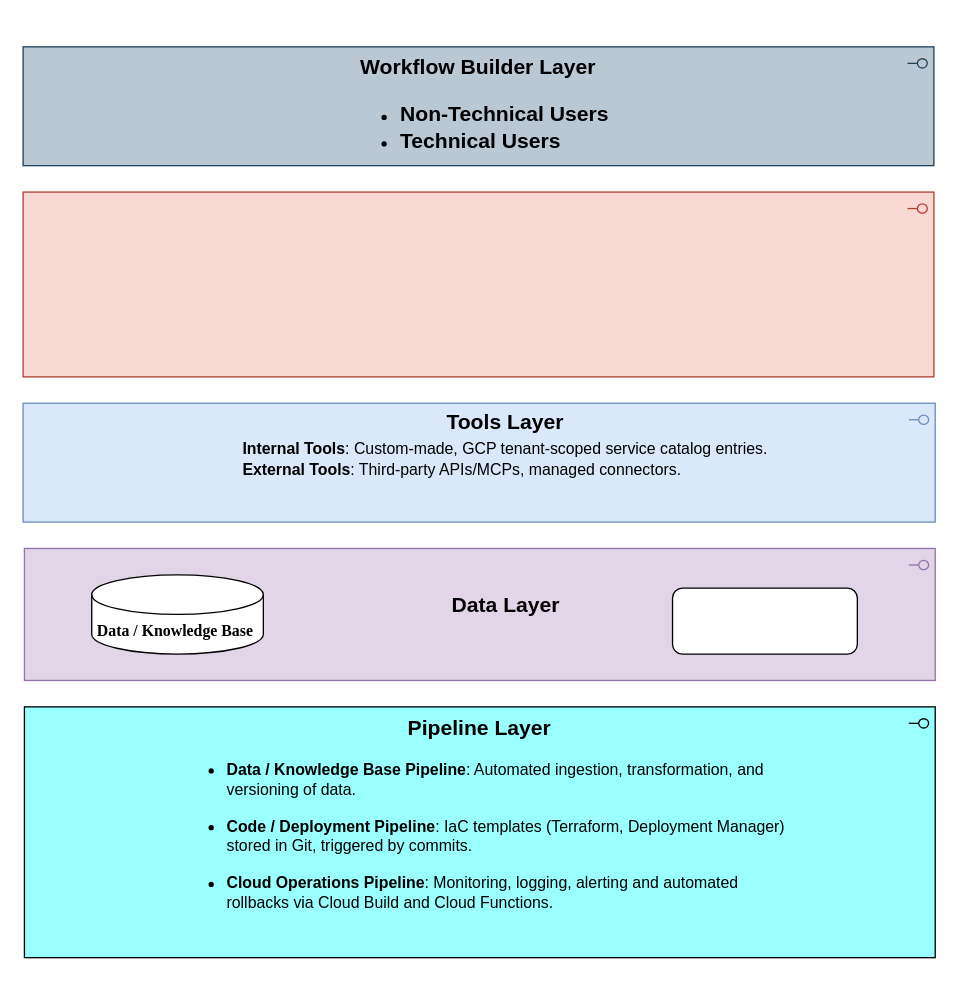
The diagram is 958 pixels wide and 981 high, and some of its shapes have lost their labels. The shapes that lost their labels are listed below. From the top down, each one's centre as x and y in pixels, then its label:
the point at 478,284: Models Layer AI Assistance AI Agents implementation Frameworks
the point at 764,620: Prompts
